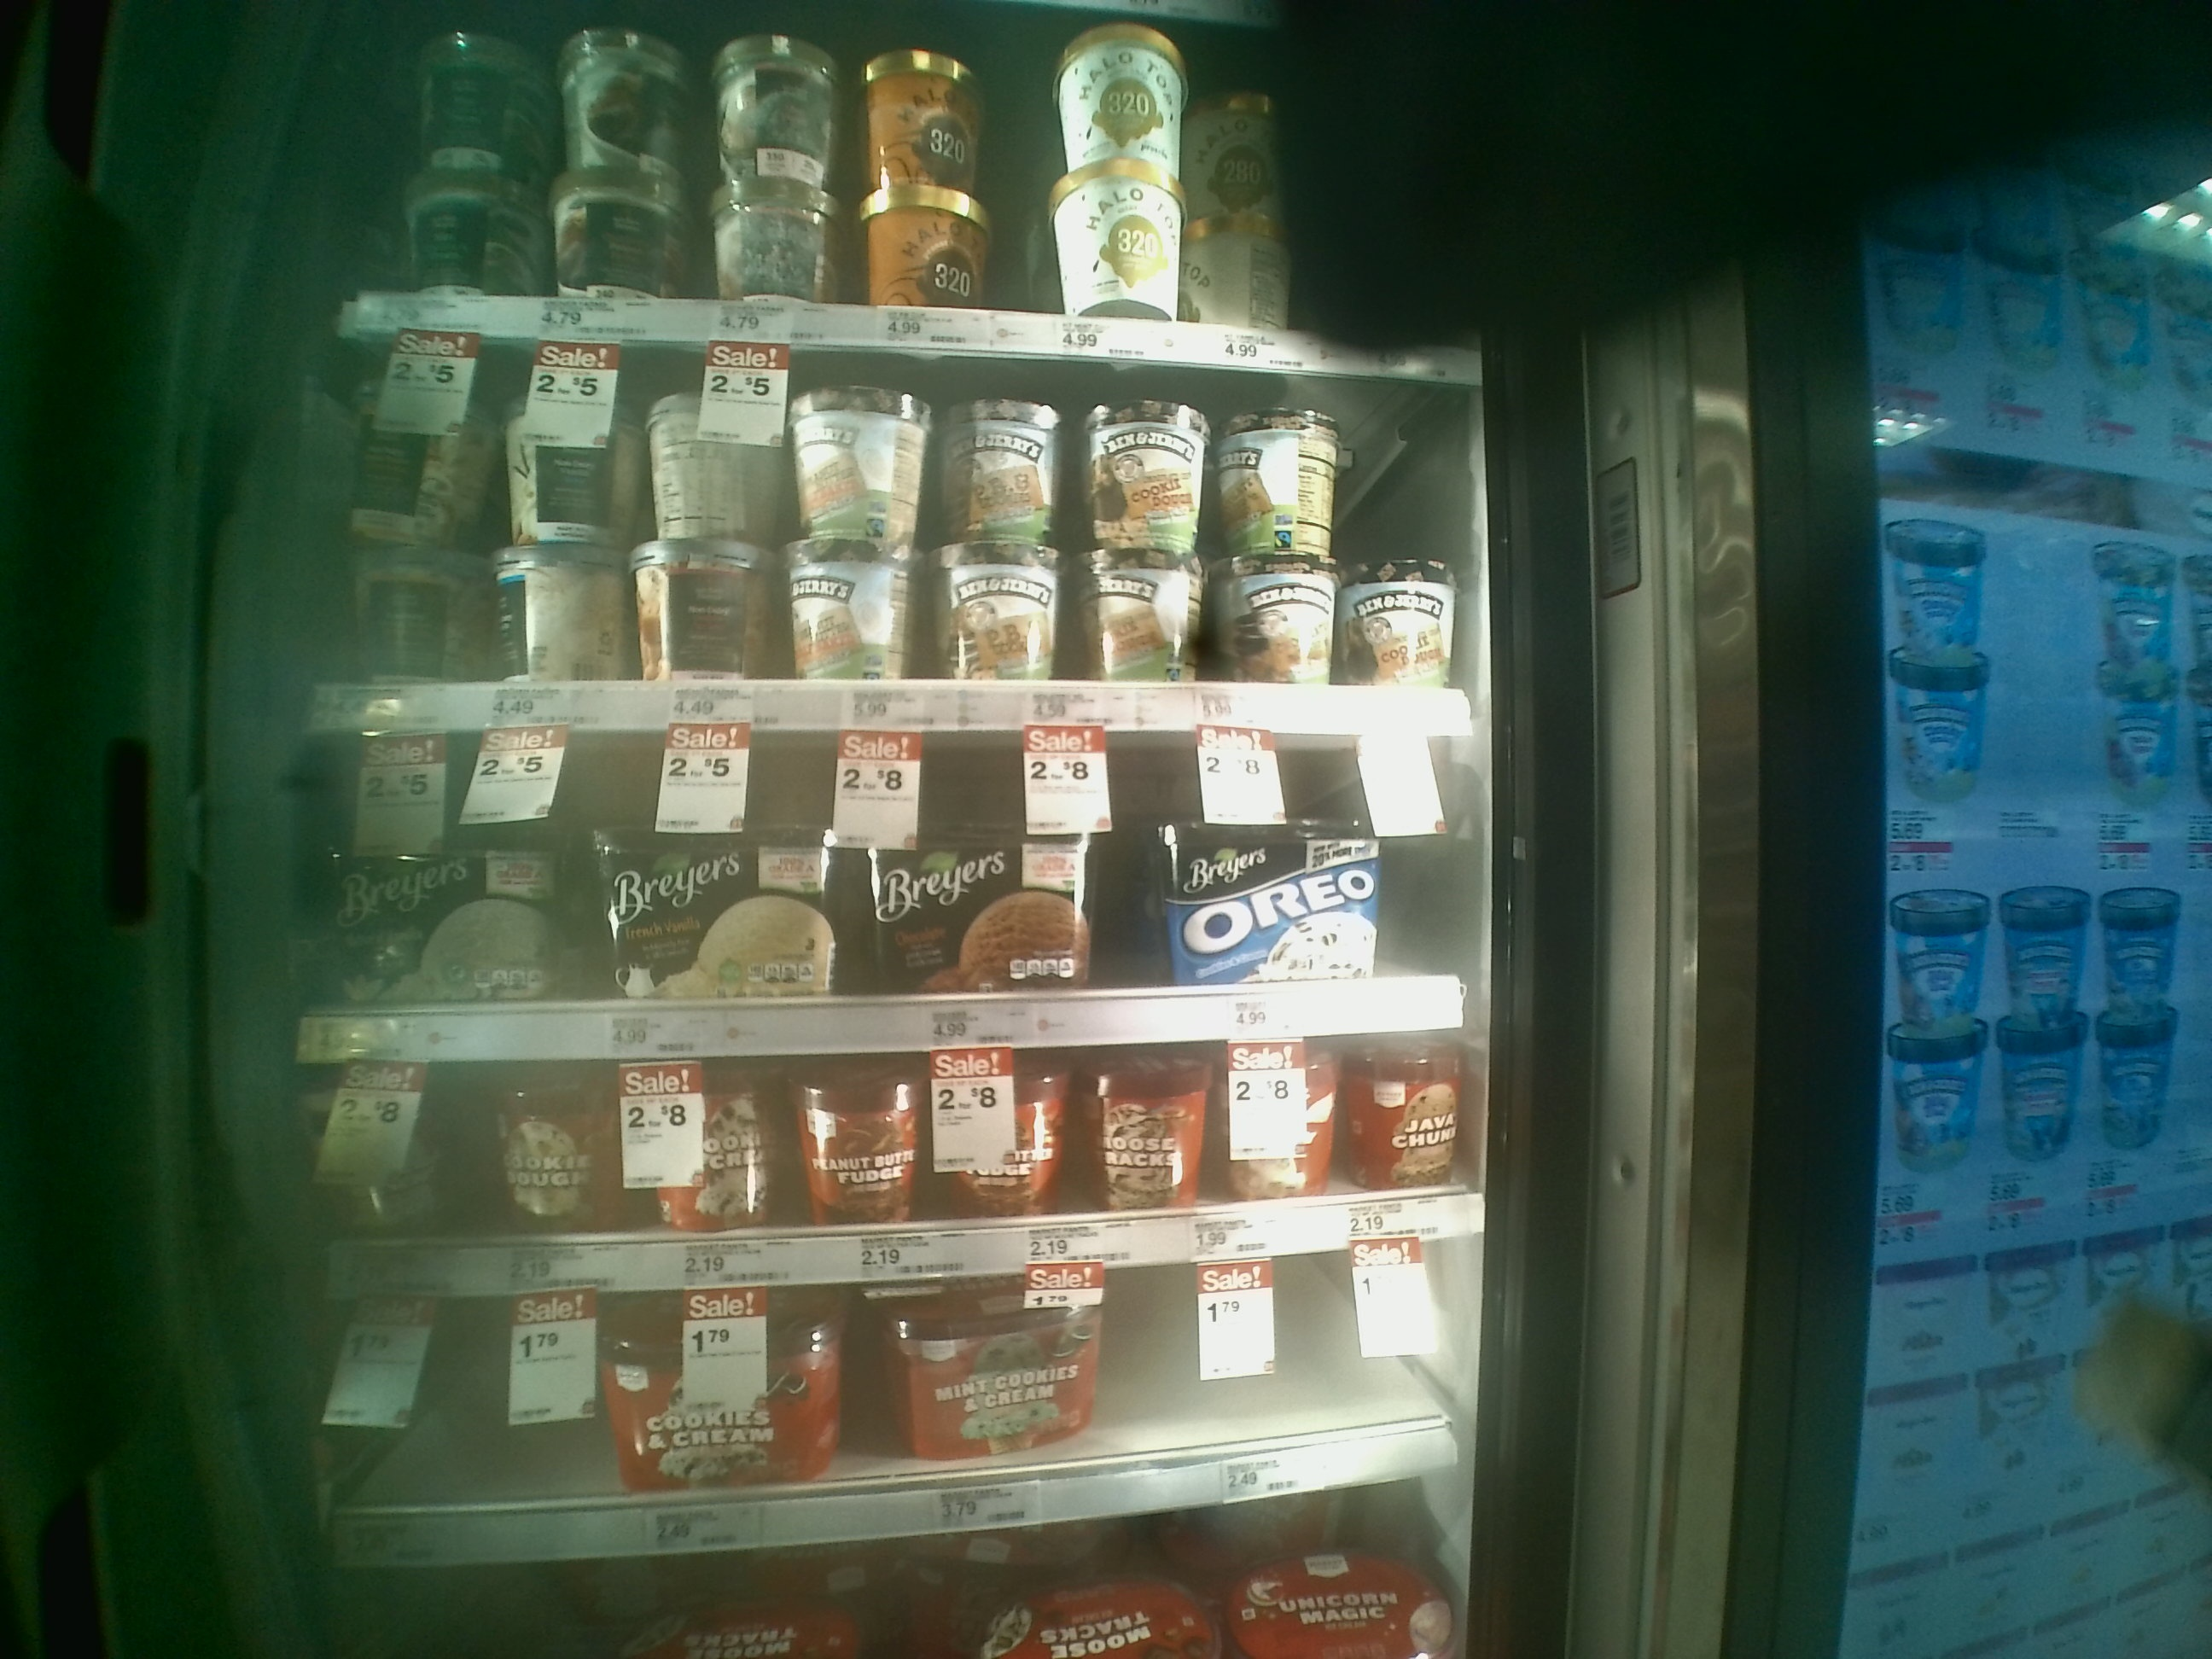ice-cream-shelf: (329, 333, 1467, 730), (308, 732, 1491, 1035), (338, 1293, 1468, 1535), (314, 1054, 1487, 1267)
